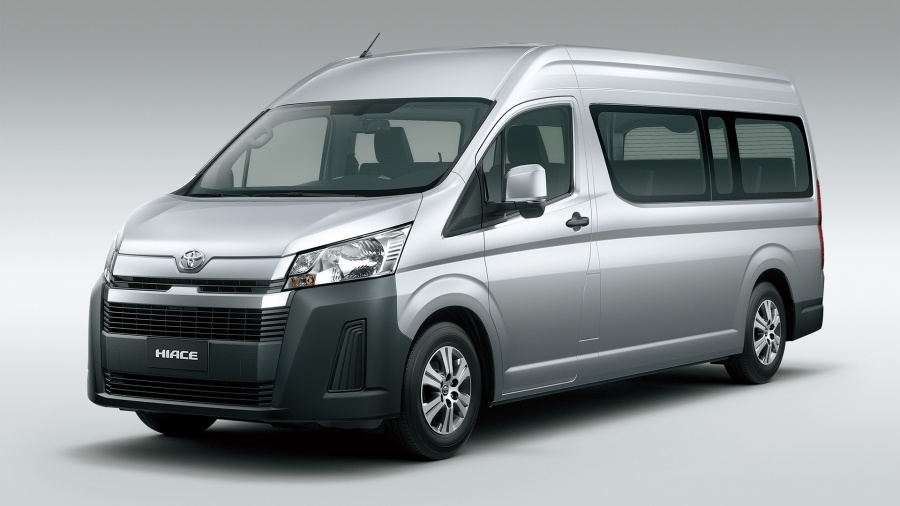van: (87, 41, 828, 460)
